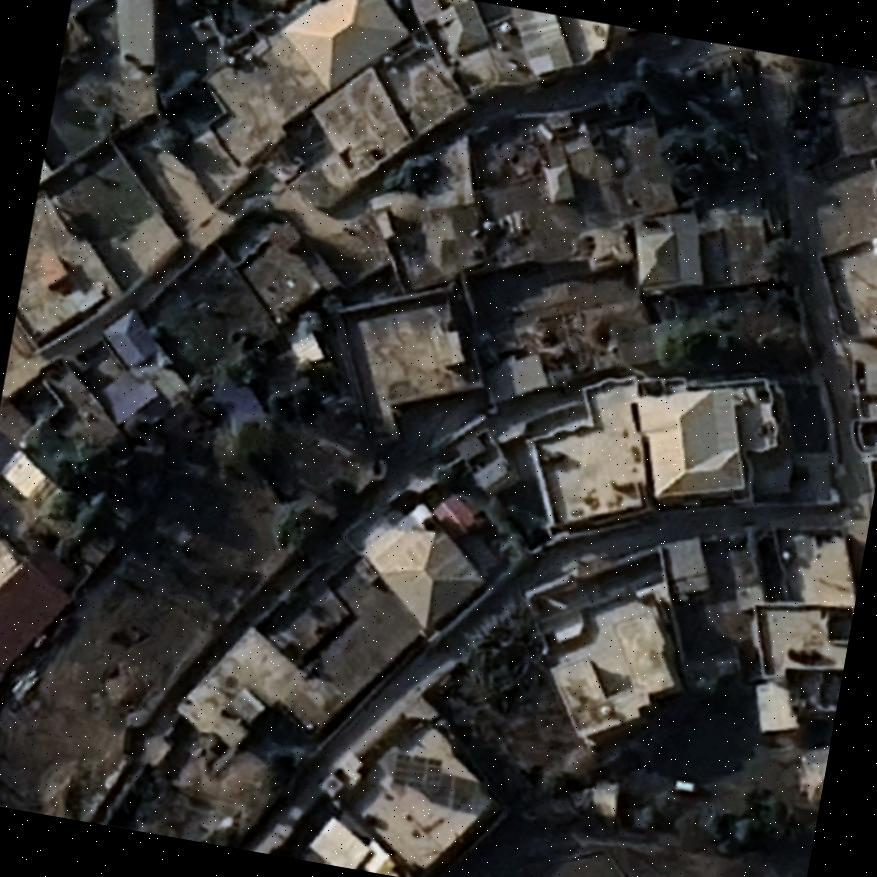Solarpanel: (388, 749, 448, 796)
